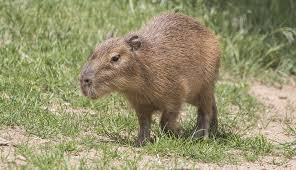capivara: (77, 9, 223, 144)
